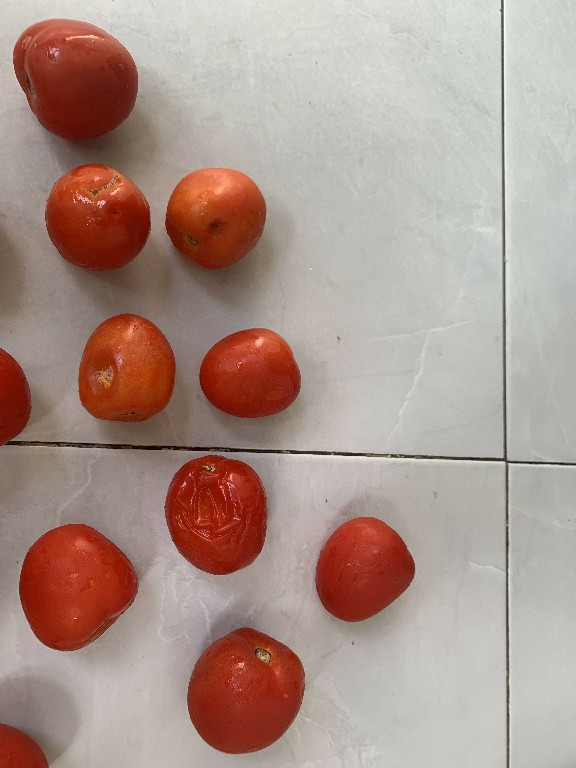NG: (159, 450, 279, 577), (40, 157, 157, 274), (73, 300, 179, 426), (160, 159, 266, 271)
OK: (6, 14, 145, 147), (183, 622, 314, 759), (13, 518, 143, 652), (310, 508, 419, 626), (193, 323, 303, 424)
